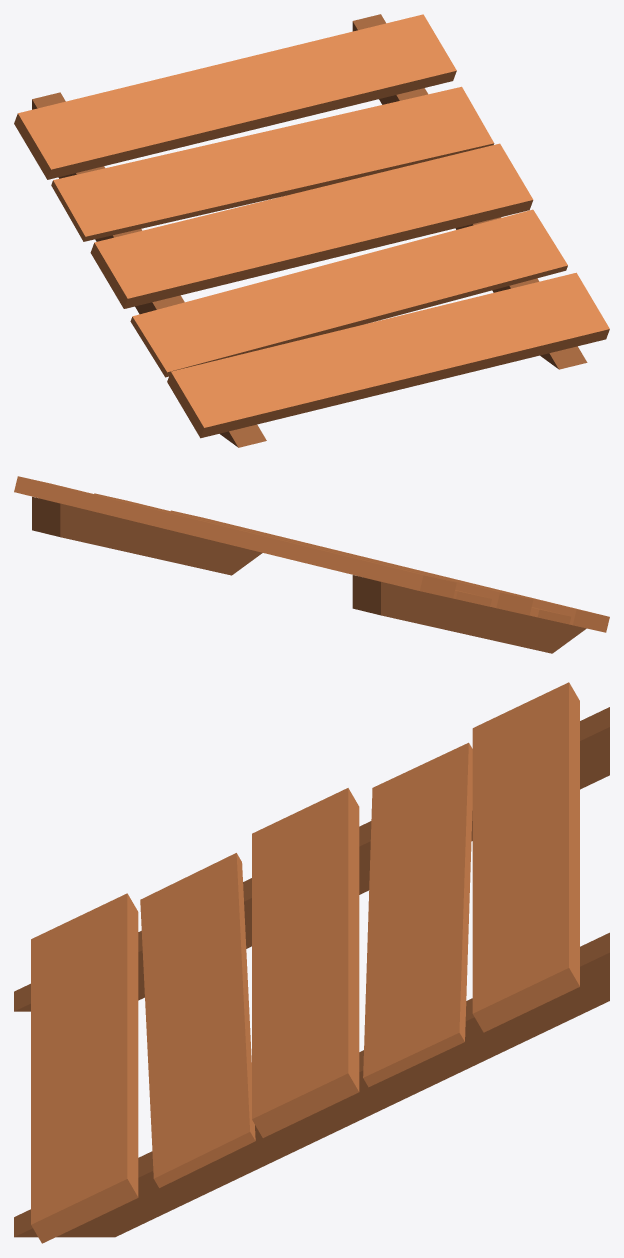
The model's file is bridgeRamp.fbx.
The picture shows the model from 3 angles, top to bottom: view 1: azimuth 30°, elevation 25°; view 2: azimuth 150°, elevation 25°; view 3: azimuth 270°, elevation 25°; orthographic projection. The views are drawn at different scales.
Visible parts, largest first — view 1: bridgeRamp; view 2: bridgeRamp; view 3: bridgeRamp.
Boxes of the visible parts, left/top/right/bottom form: bridgeRamp: left=14, top=14, right=609, bottom=447; bridgeRamp: left=14, top=476, right=609, bottom=653; bridgeRamp: left=14, top=682, right=609, bottom=1243.
Size of the model in its own units: 10.03 by 4.73 by 8.82.
